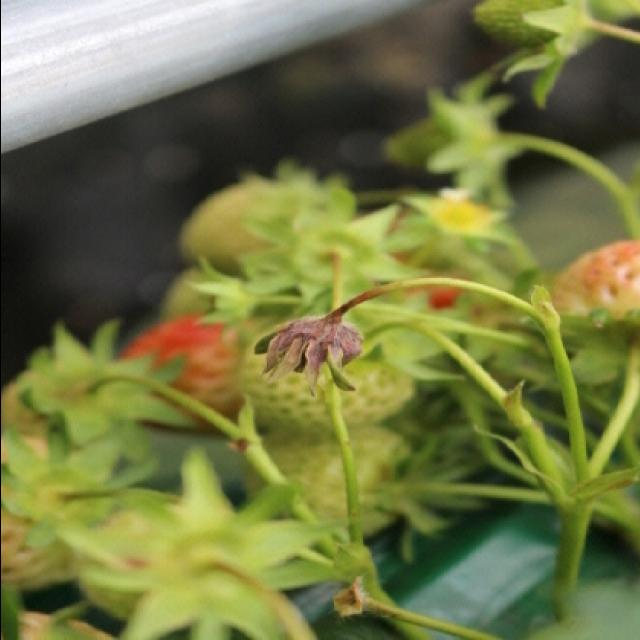Gray Mold: (252, 298, 362, 397)
